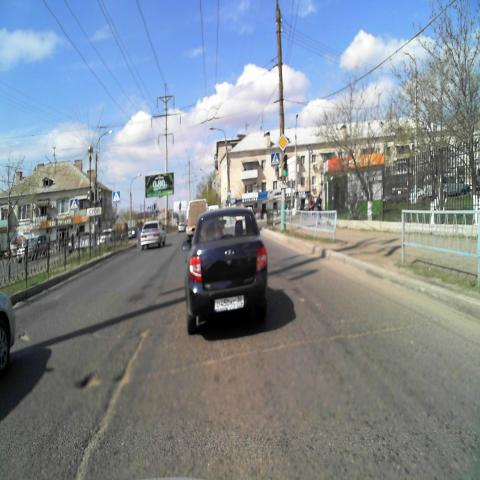6_16: (87, 207, 101, 216)
